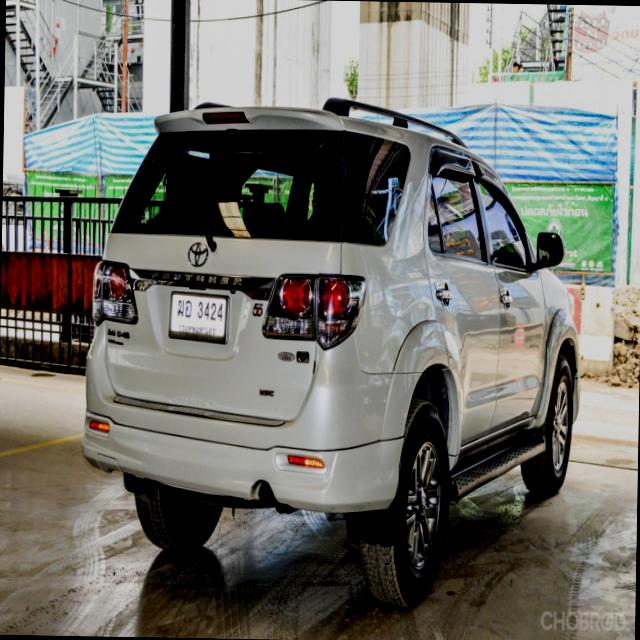license_plate: (167, 286, 229, 342)
